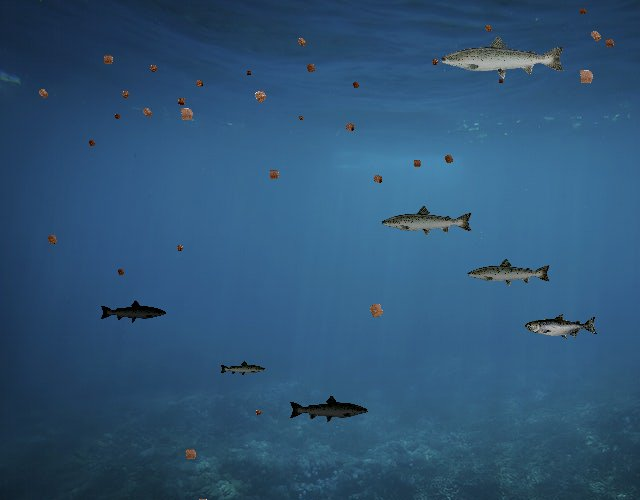Fish: (438, 34, 567, 80), (381, 205, 475, 239), (466, 257, 552, 288), (289, 394, 370, 424), (525, 314, 598, 340), (99, 300, 167, 324), (220, 360, 267, 377)
Pellet: (248, 84, 273, 109), (179, 443, 202, 466), (368, 170, 387, 189), (172, 241, 187, 256), (114, 265, 128, 279), (428, 55, 442, 69), (252, 406, 264, 418)
